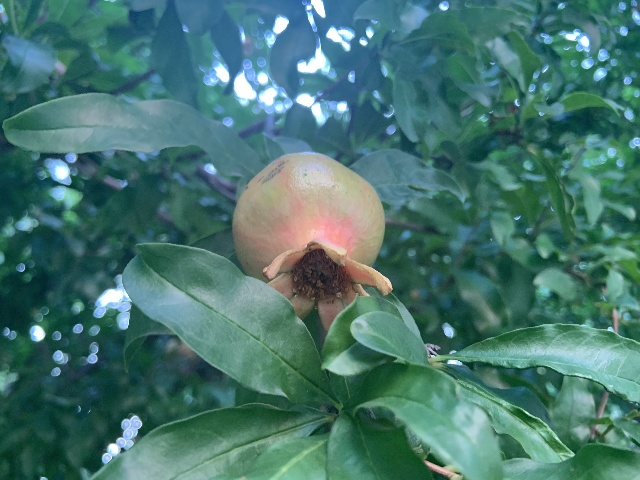mid-growth: (232, 150, 392, 327)
